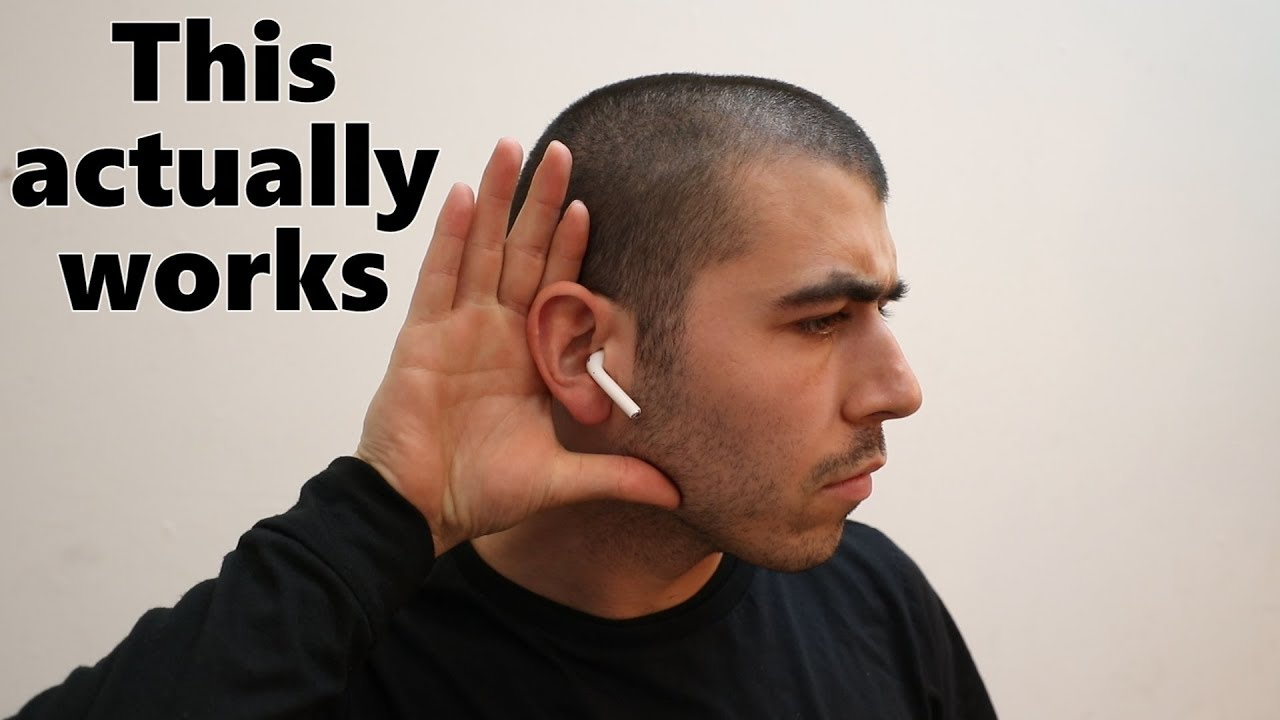earphone: (524, 282, 646, 426)
